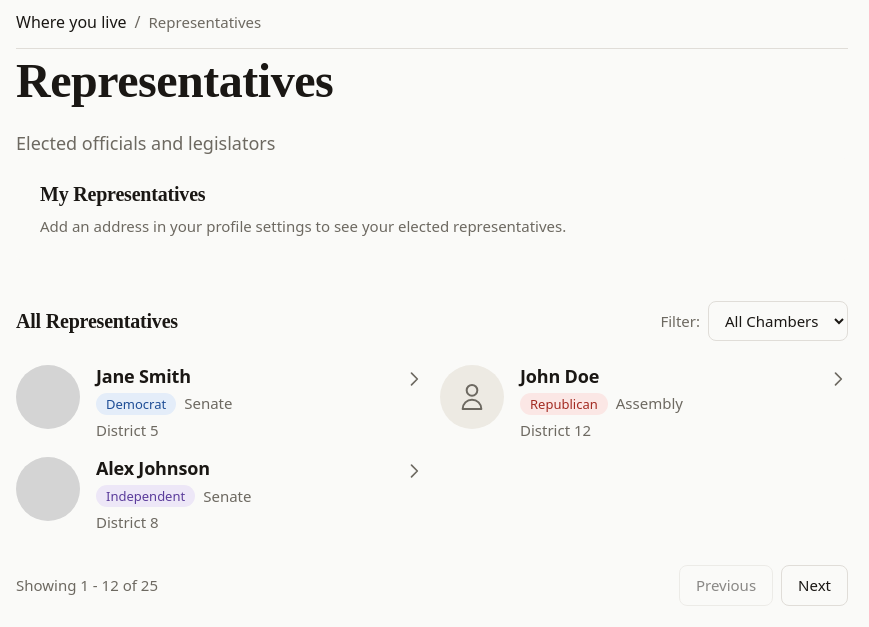
Test case: RepresentativesPage › pagination › should reset pagination when filter changes
The image size is (869, 627).
# Go to page 2
Click the button "Next" at (815, 586), box [781,565,848,606]
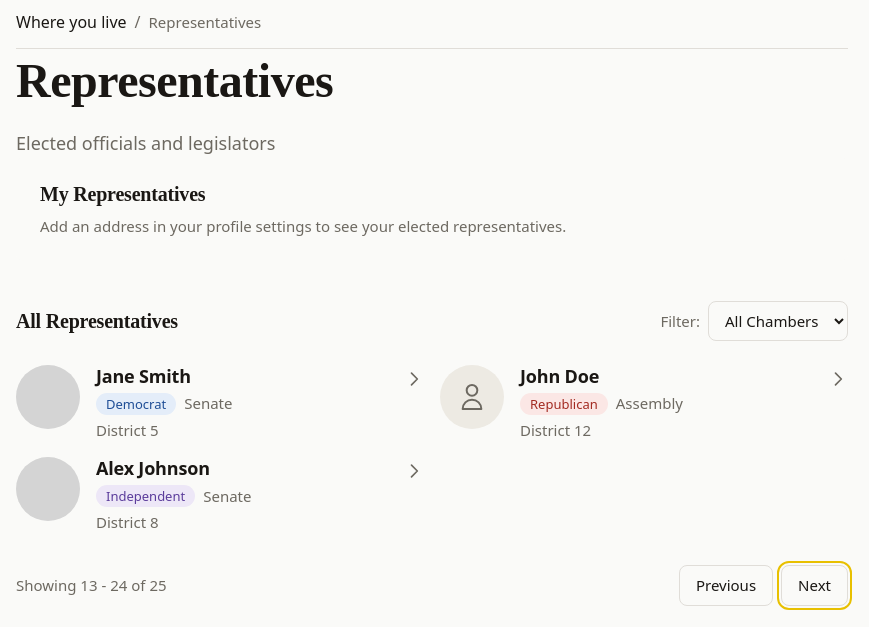
# Change filter
Select "Senate" in the dropdown at (778, 321), box [708,301,848,341]
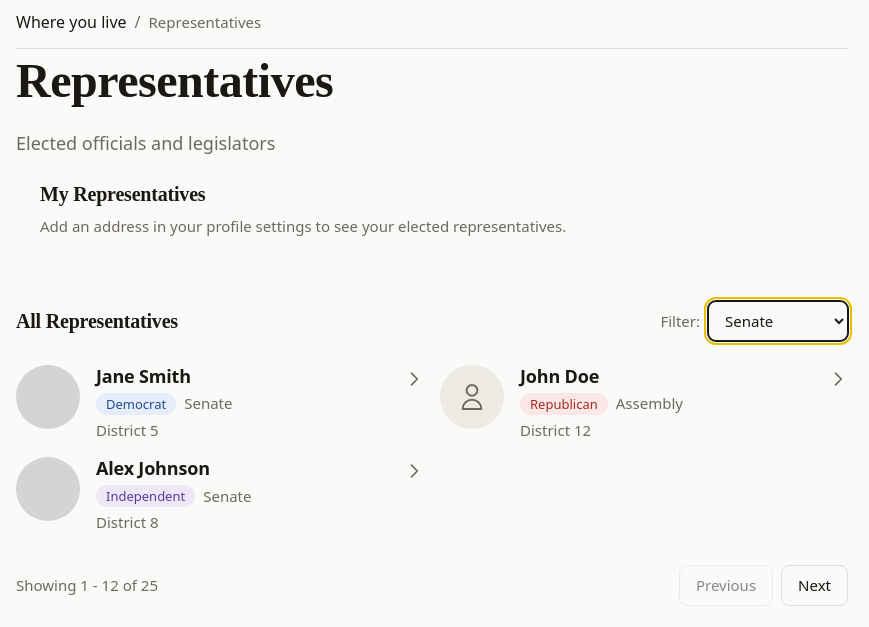
Result: the button "Previous" is disabled at [679,565,773,606]
